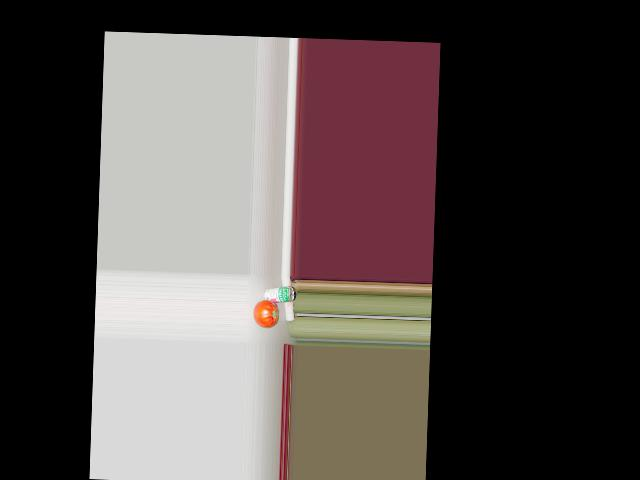tomato: (253, 300, 277, 328)
